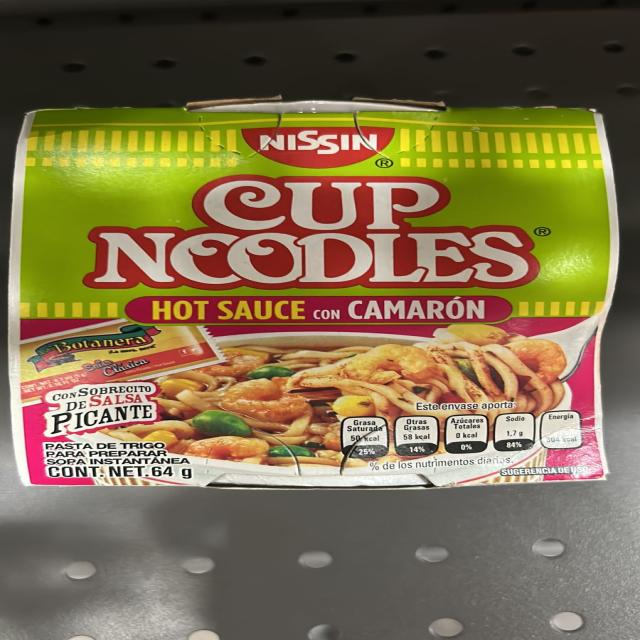nissinCamaron: (30, 107, 607, 490)
